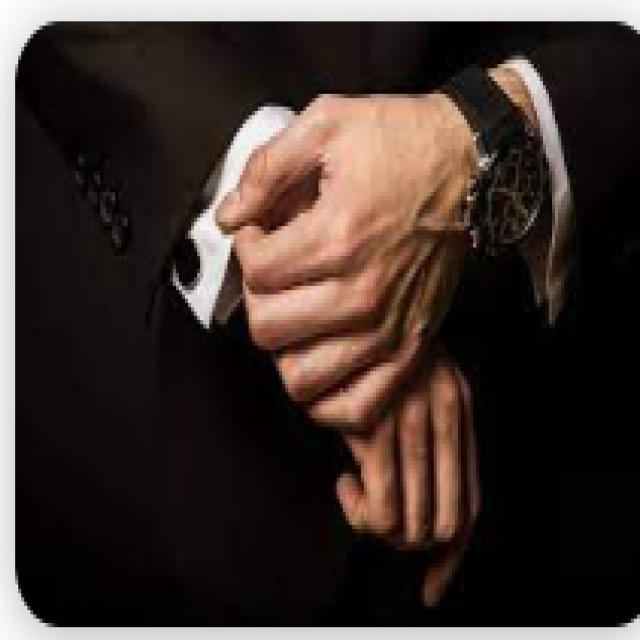Watch: (442, 57, 551, 296)
